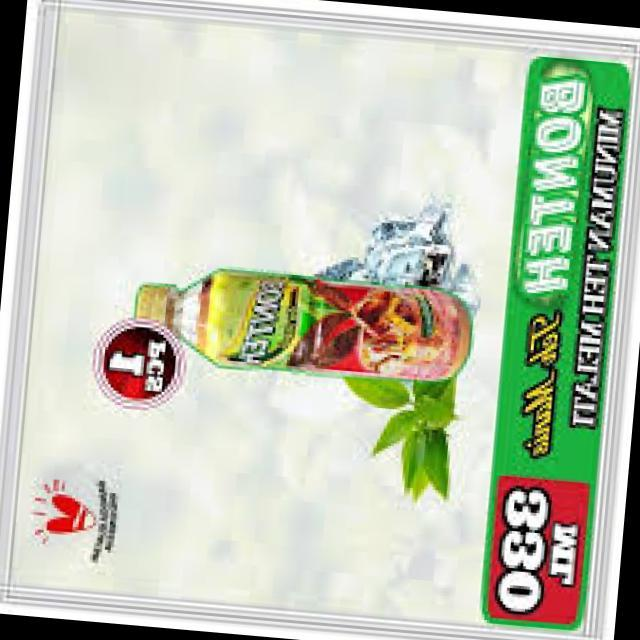good: (121, 256, 478, 402)
